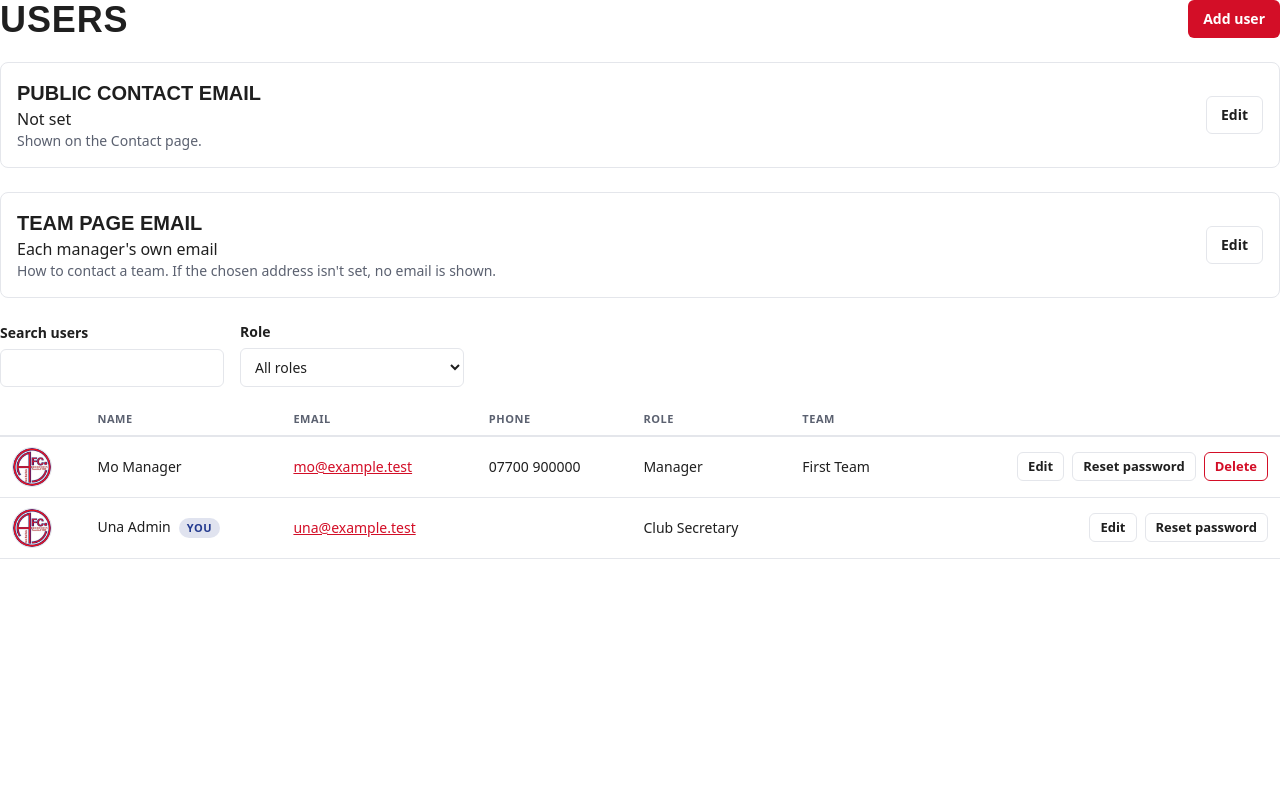
Test case: Public contact email › shows Not set, then saves a new email
Check: the text "Not set" is shown, box [17,108,71,130]
Click the button with aria-label "Edit public contact email": coordinates (1234, 115) [1206,96,1263,134]
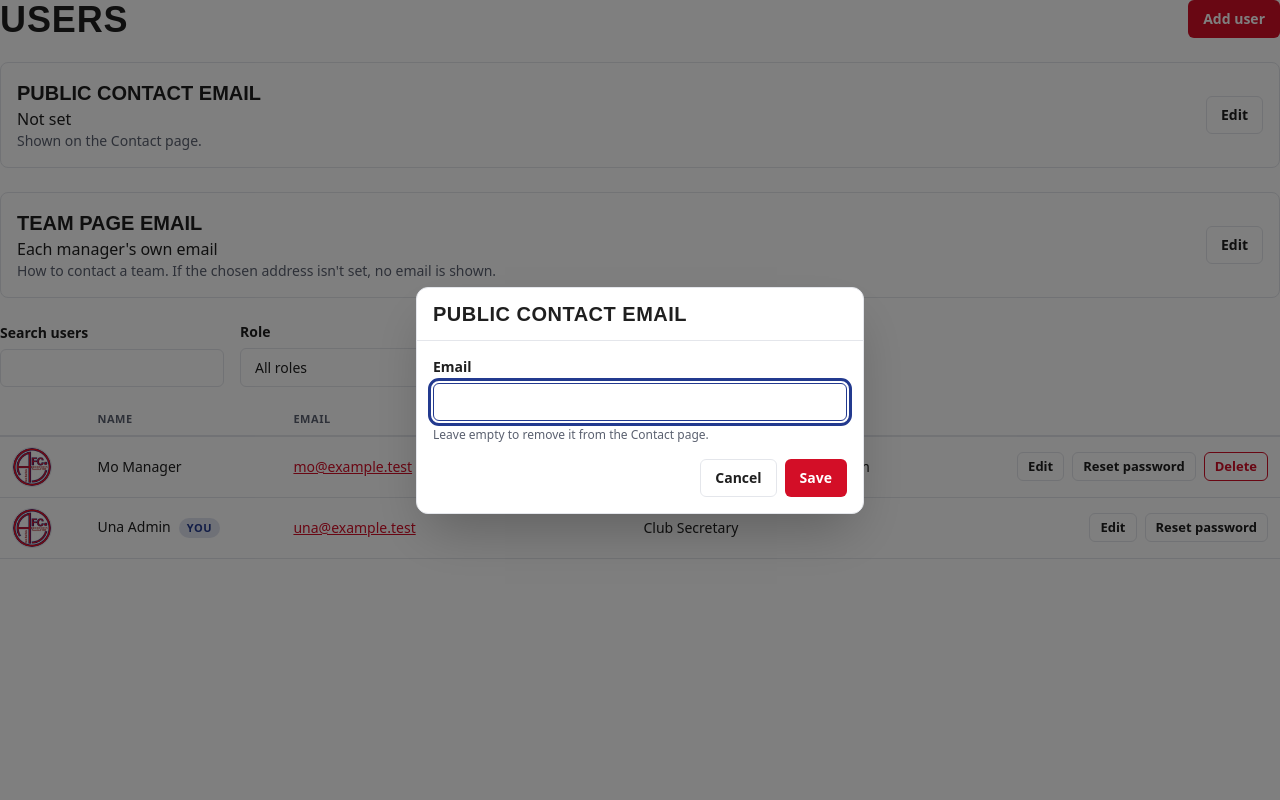
In the field labelled "Email": coordinates (640, 402) [433,382,847,420], type "club@example.test"
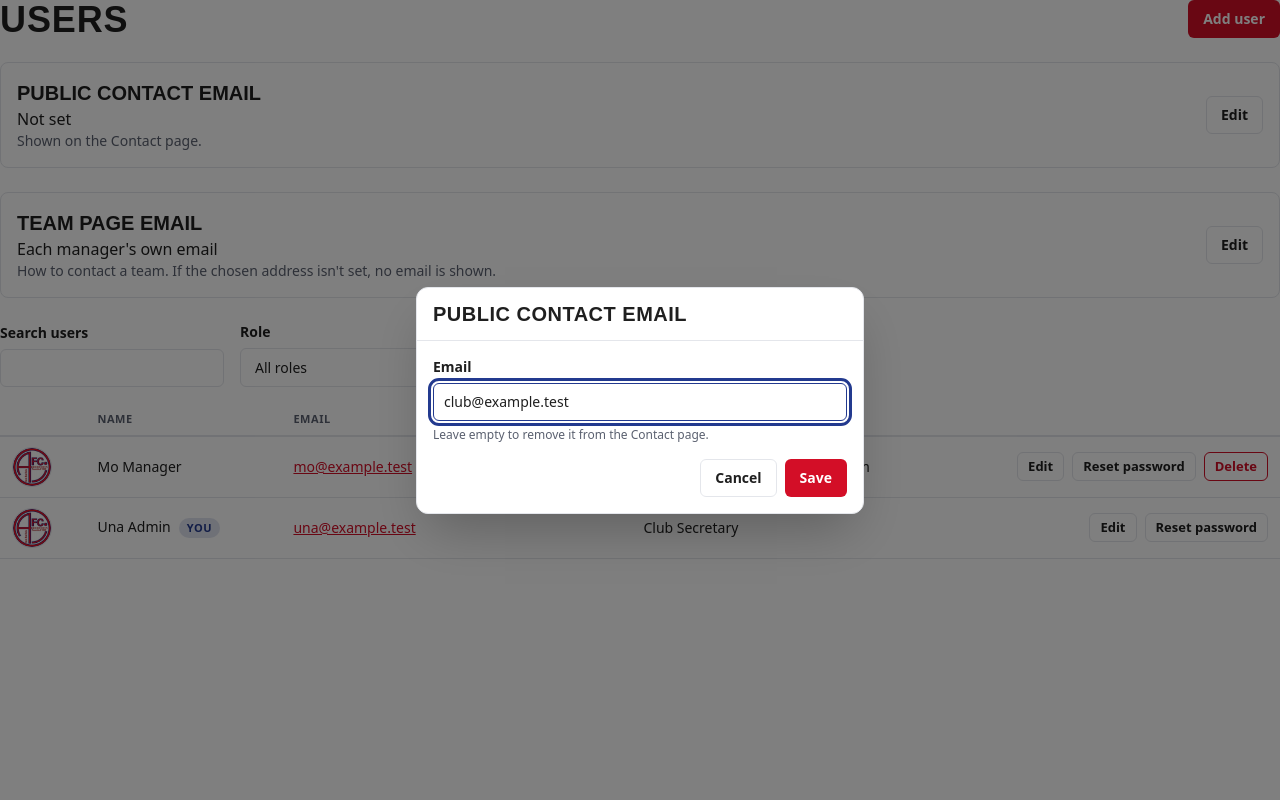
Click the button "Save": coordinates (816, 478) [785,458,847,496]
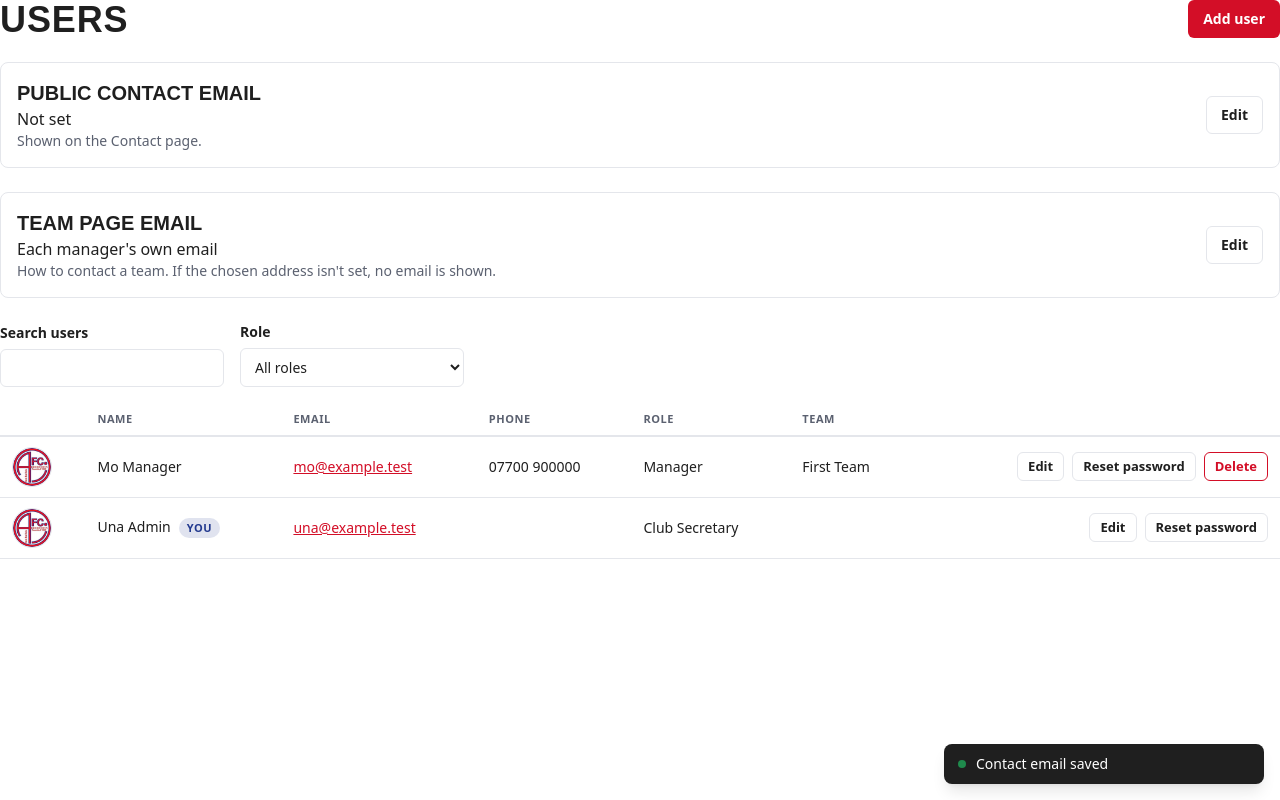
Check: the button "Contact email saved" is shown, box [944,744,1264,784]
